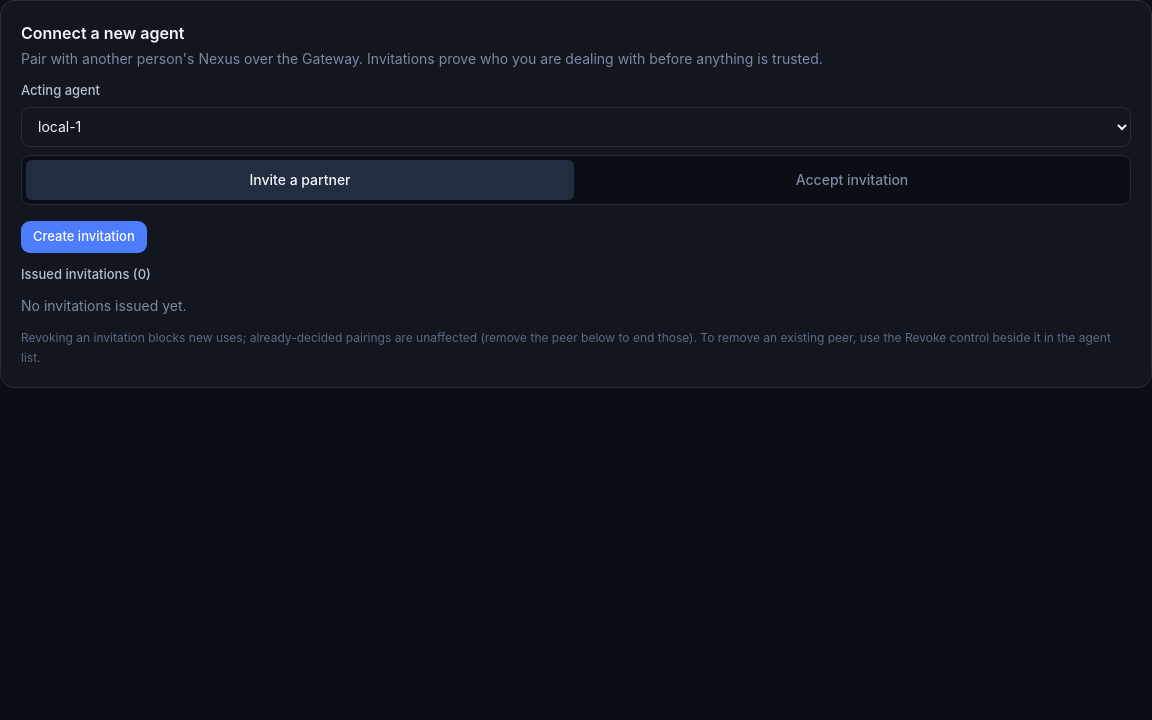
ConnectAgentPanel › creates an invitation and shows the one-time code
Click the button "Create invitation": (84, 236) left=21, top=220, right=147, bottom=252
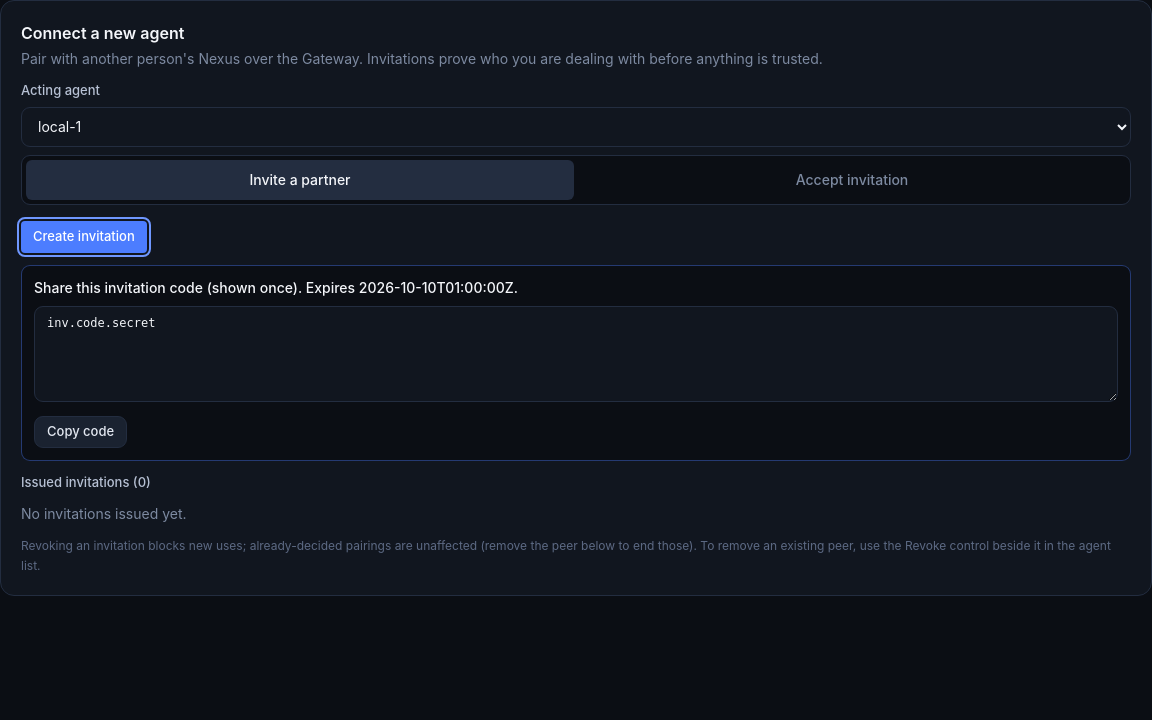
Expected: the text box named "invitation code" holds "inv.code.secret", left=34, top=306, right=1118, bottom=402
